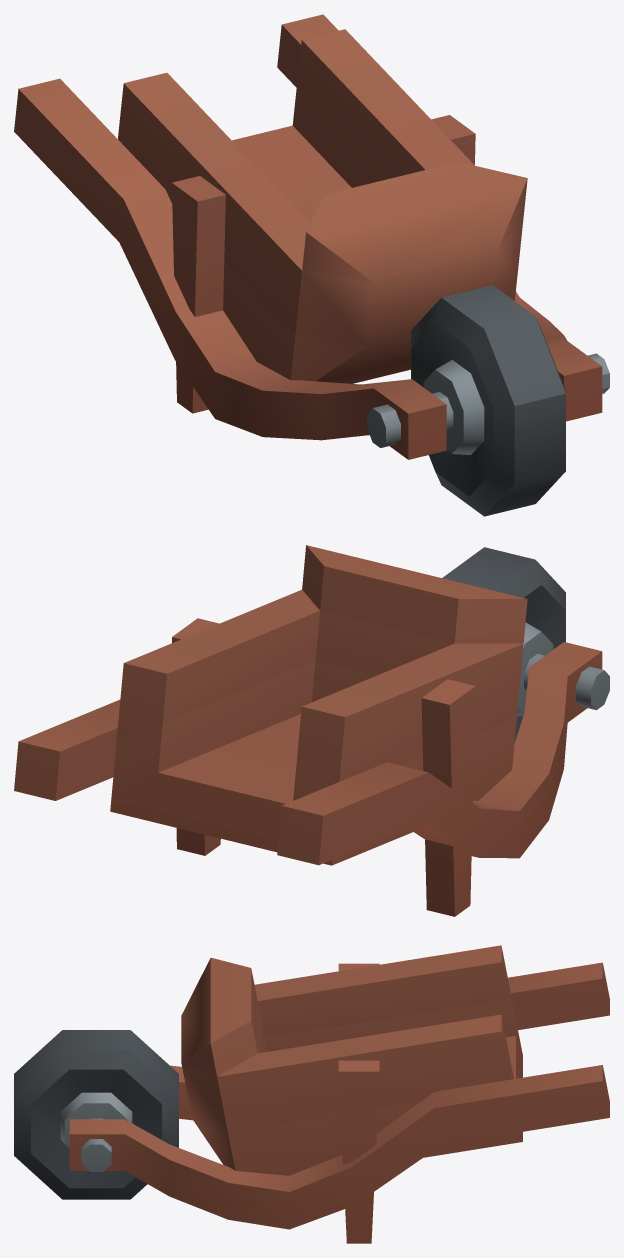
Rendered from kk_wheelbarrow_v1.glb.
3 renders of one model, top to bottom at view 1: azimuth 30°, elevation 25°; view 2: azimuth 150°, elevation 25°; view 3: azimuth 270°, elevation 25°, orthographic. The views are drawn at different scales.
Parts seen in each view (by area): view 1: wheelbarrow; view 2: wheelbarrow; view 3: wheelbarrow.
Boxes of the visible parts, box(x1,y1,x2,y2) form: wheelbarrow: box(14, 14, 609, 516); wheelbarrow: box(14, 545, 609, 916); wheelbarrow: box(14, 945, 609, 1243).
Bounding box in the file's own units: 0.238 × 0.1884 × 0.5057.
Materials: 1 (1 with a texture image).
